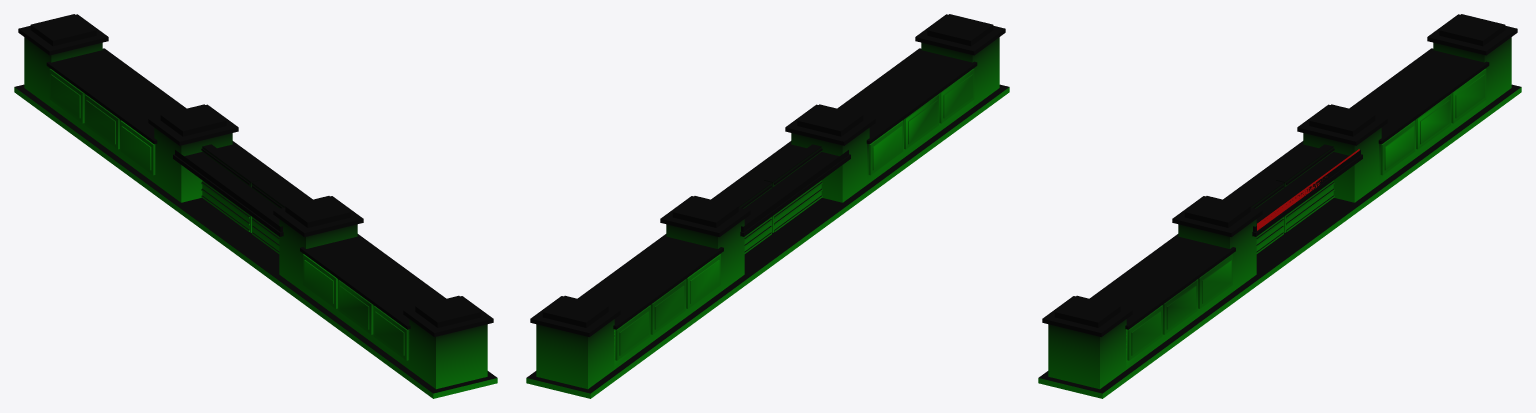
File: d_lightgate.glb
3 renders of one model, left to right at view 1: azimuth 30°, elevation 25°; view 2: azimuth 150°, elevation 25°; view 3: azimuth 330°, elevation 25°, orthographic.
Parts seen in each view (by area): view 1: lod0, door_l, door_r; view 2: lod0, door_r, door_l; view 3: lod0, door_l, door_r.
Part boxes in pixels (x1,y1,x2,y2): lod0: [14, 14, 497, 398]; door_l: [201, 144, 259, 232]; door_r: [252, 180, 292, 253]; lod0: [526, 14, 1009, 398]; door_r: [764, 144, 822, 232]; door_l: [731, 180, 771, 253]; lod0: [1038, 14, 1521, 398]; door_l: [1276, 144, 1334, 232]; door_r: [1243, 180, 1283, 253].
Size of what is drawn, in the model's own units: 5 by 5.52 by 56.4.
